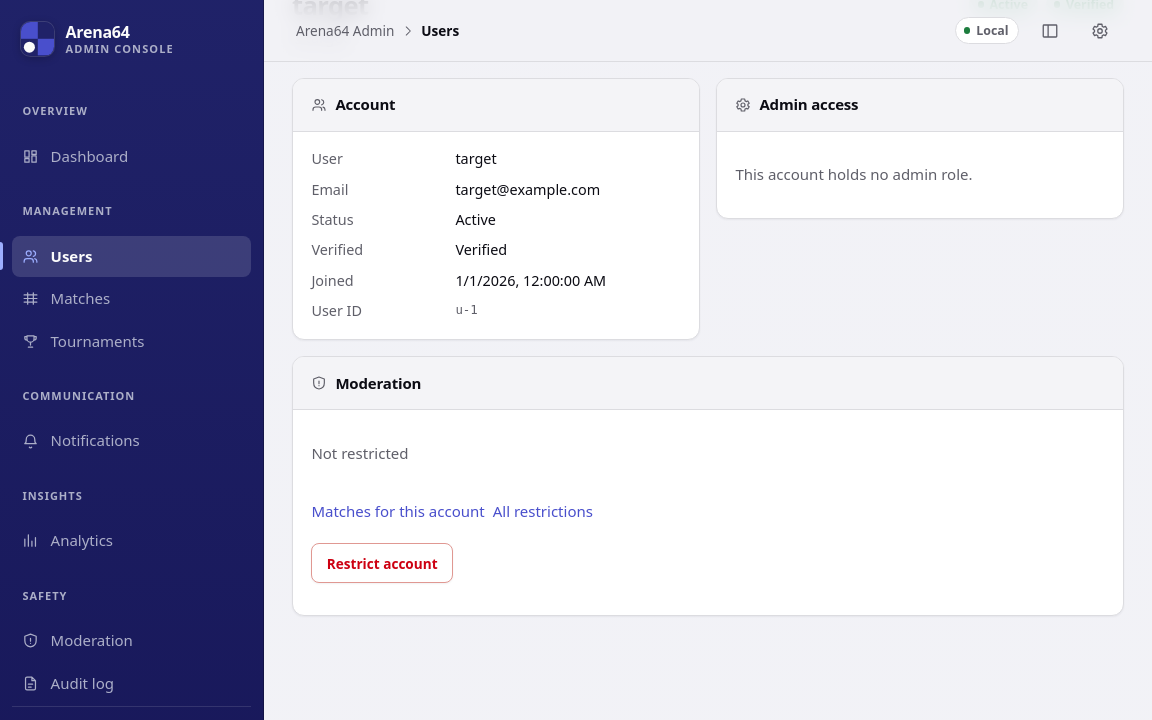
Test: keeps the dialog and what was typed when the server refuses
(page scrolled)
Click the button "Restrict account": (382, 563) [311,543,453,583]
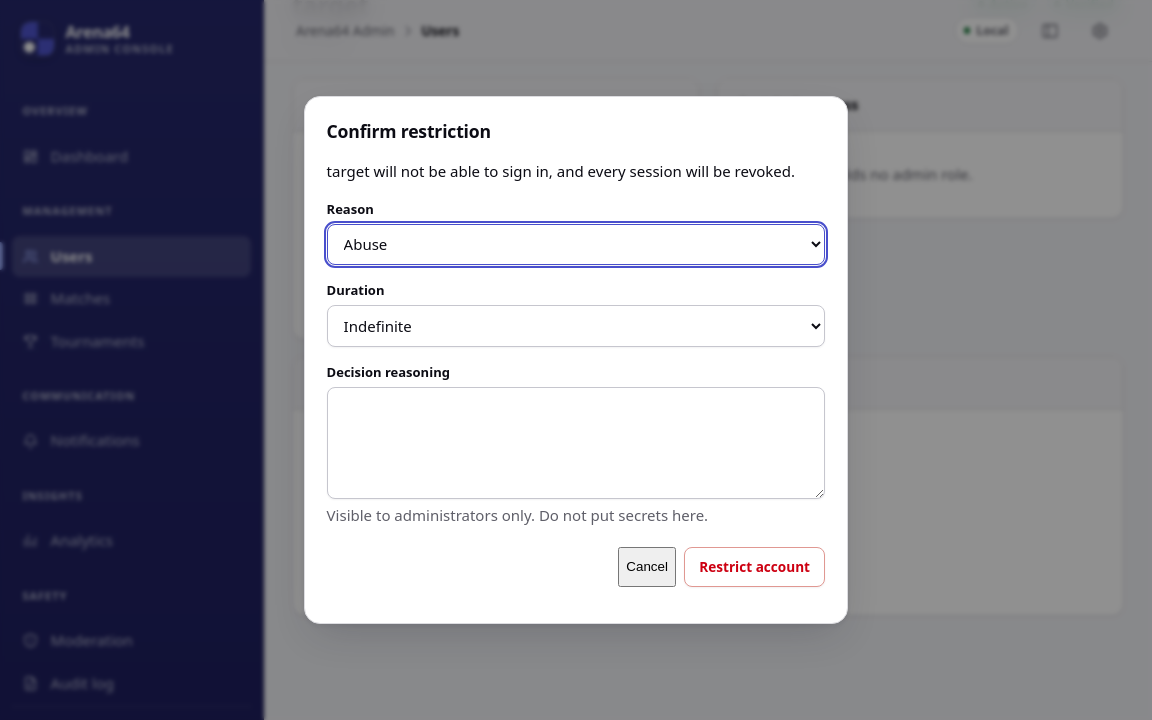
In the text box: (576, 443) [327,387,825,499], type "Repeat offence."
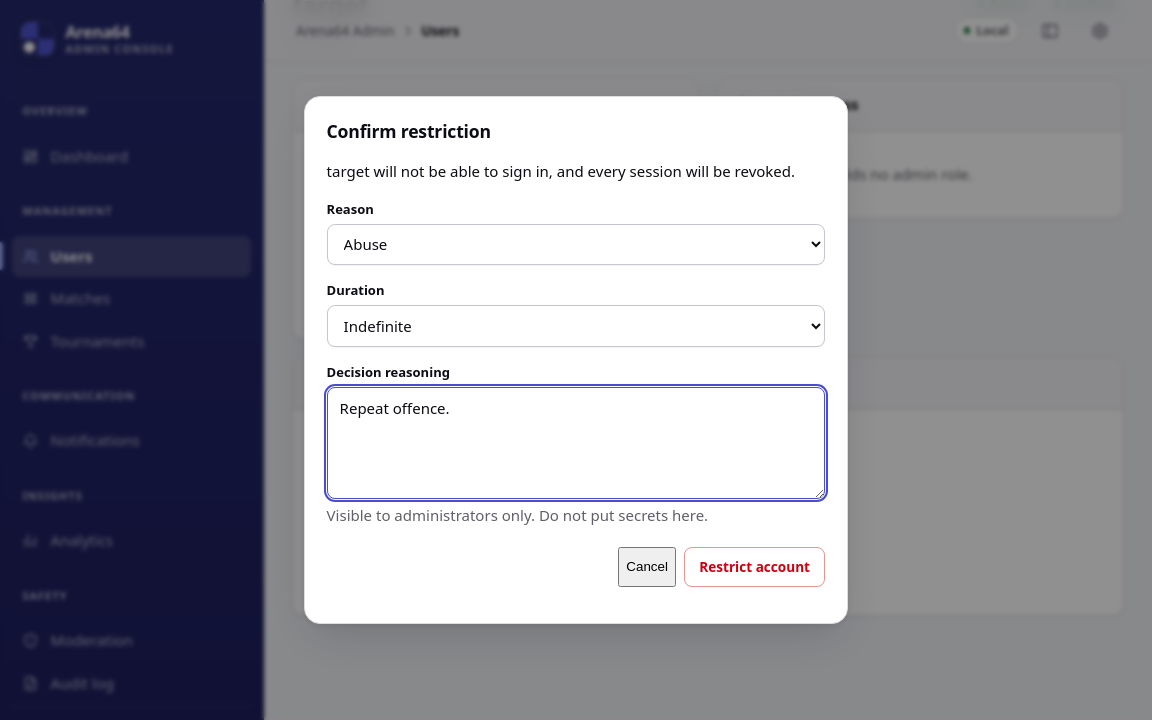
Click the button "Restrict account": (755, 567) [684,547,825,587]
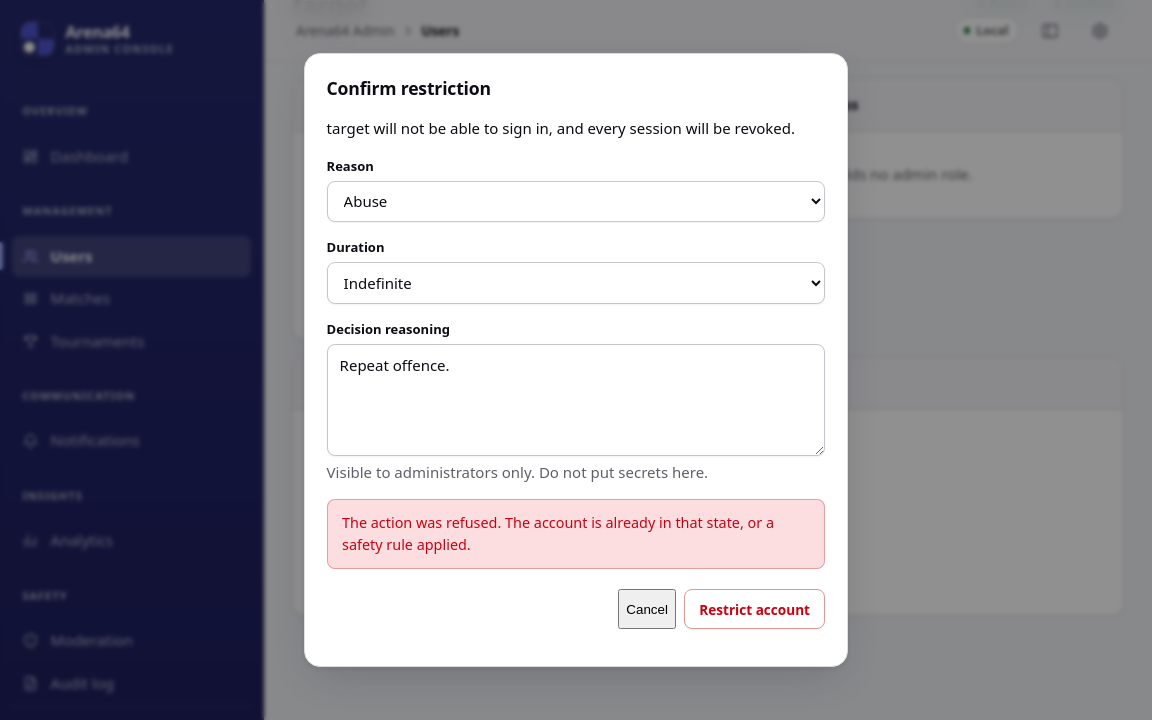
expect the message is shown: met, box [327,499,825,569]
